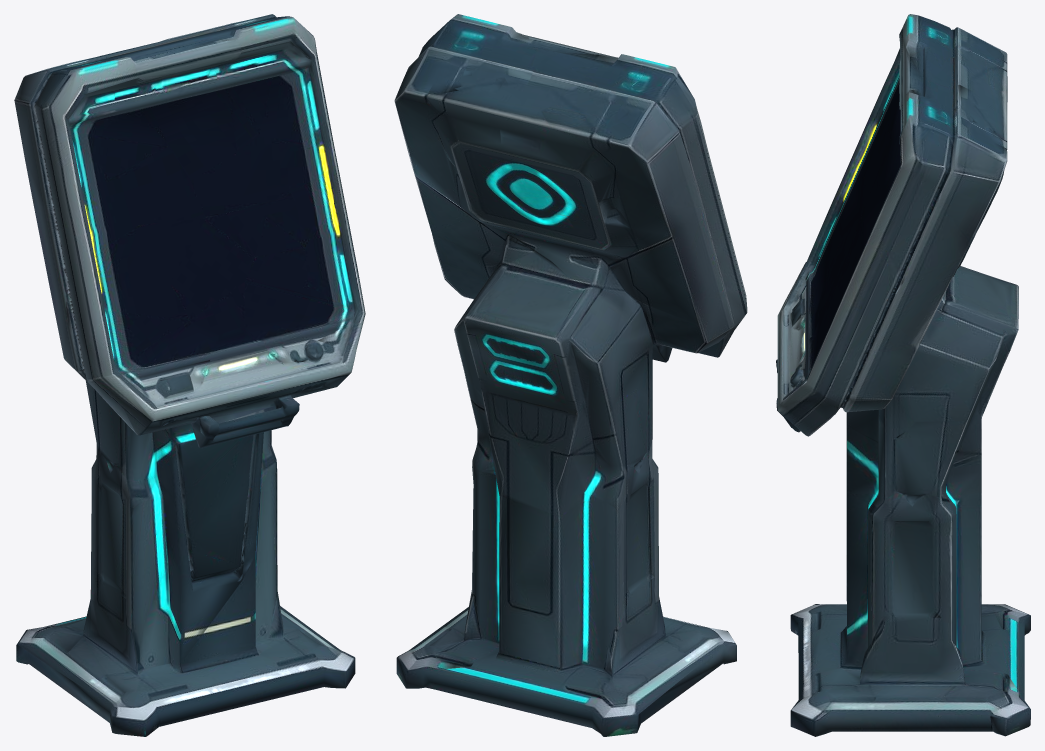
Rendered from zone_terminal.glb.
3 renders of one model, left to right at view 1: azimuth 30°, elevation 25°; view 2: azimuth 150°, elevation 25°; view 3: azimuth 270°, elevation 25°, orthographic. The views are drawn at different scales.
Bounding box in the file's own units: 0.8726 × 1.9 × 0.7144.
Materials: 1 (1 with a texture image).
